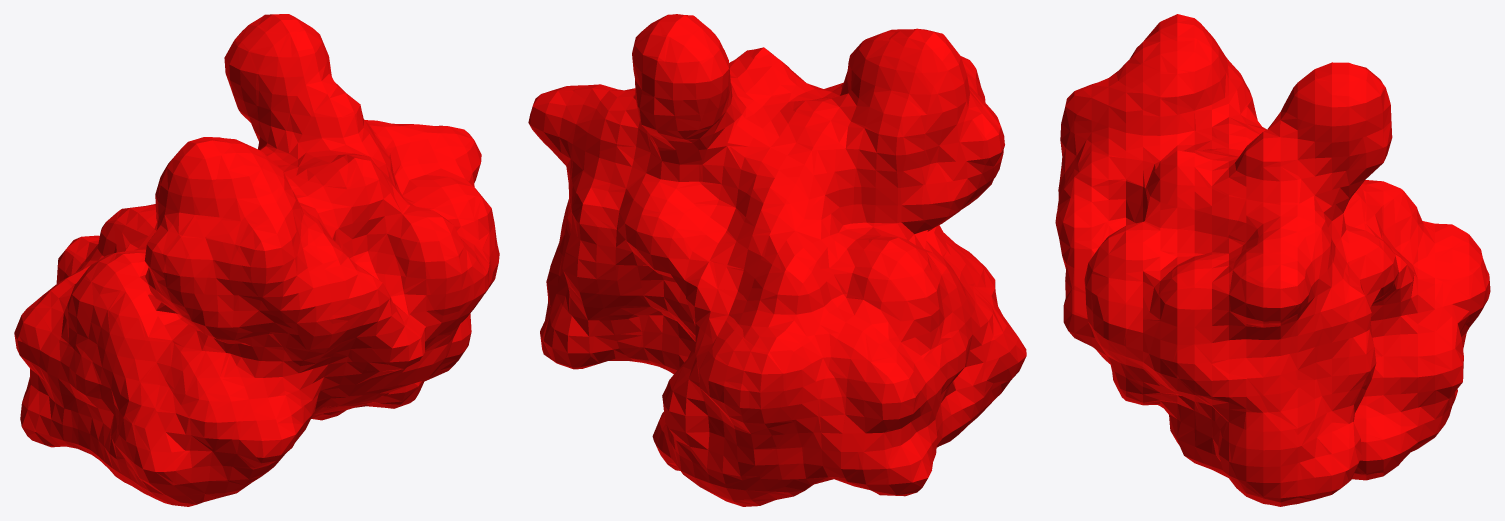
Rendered from malP_coarse.dae.
The picture shows the model from 3 angles, left to right: view 1: azimuth 30°, elevation 25°; view 2: azimuth 150°, elevation 25°; view 3: azimuth 270°, elevation 25°; orthographic projection. The views are drawn at different scales.
Visible parts, largest first — view 1: malP; view 2: malP; view 3: malP.
Boxes of the visible parts, <box> form: malP: <box>14,14,499,506</box>; malP: <box>528,14,1026,506</box>; malP: <box>1055,14,1490,506</box>.
Bounding box in the file's own units: 81.84 × 77.08 × 71.33.
